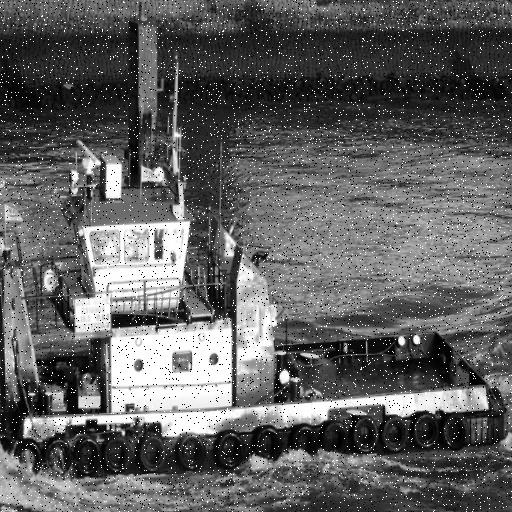tugboat: (1, 137, 512, 505)
